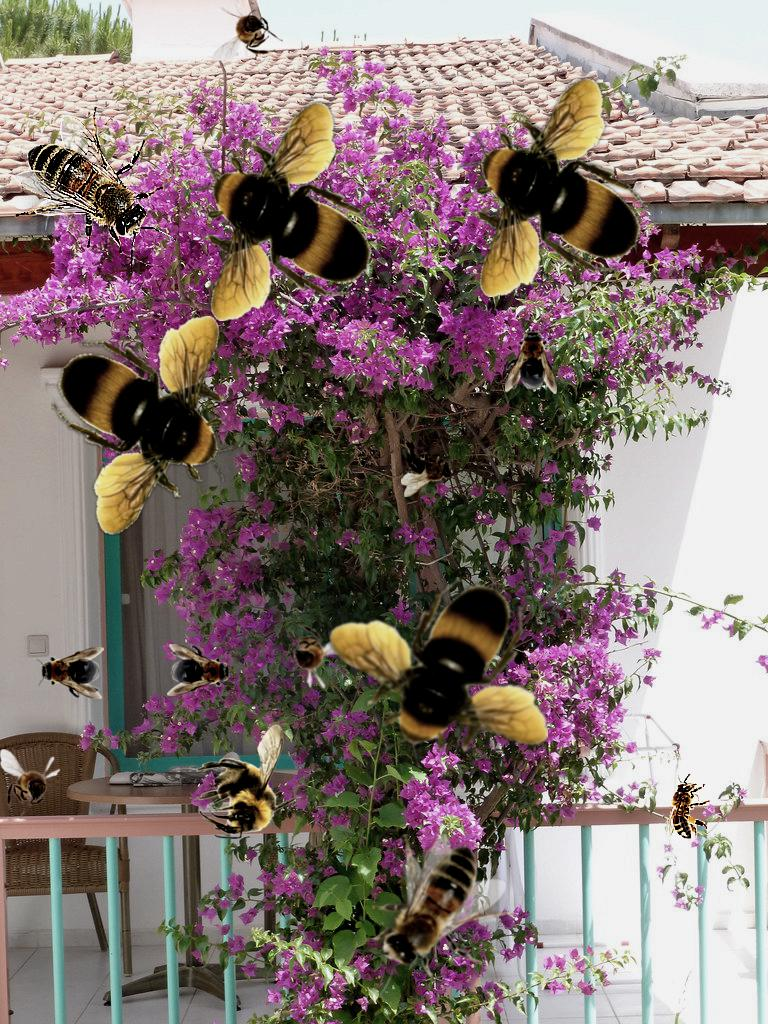Bee: (457, 77, 648, 297), (188, 101, 379, 321), (328, 577, 548, 768), (51, 316, 242, 536), (15, 106, 177, 273), (348, 834, 515, 996), (195, 724, 302, 839), (266, 611, 357, 699), (213, 0, 283, 61), (0, 749, 61, 819), (36, 647, 104, 699), (505, 326, 557, 394), (167, 644, 235, 696), (401, 435, 454, 497), (665, 773, 710, 839)
